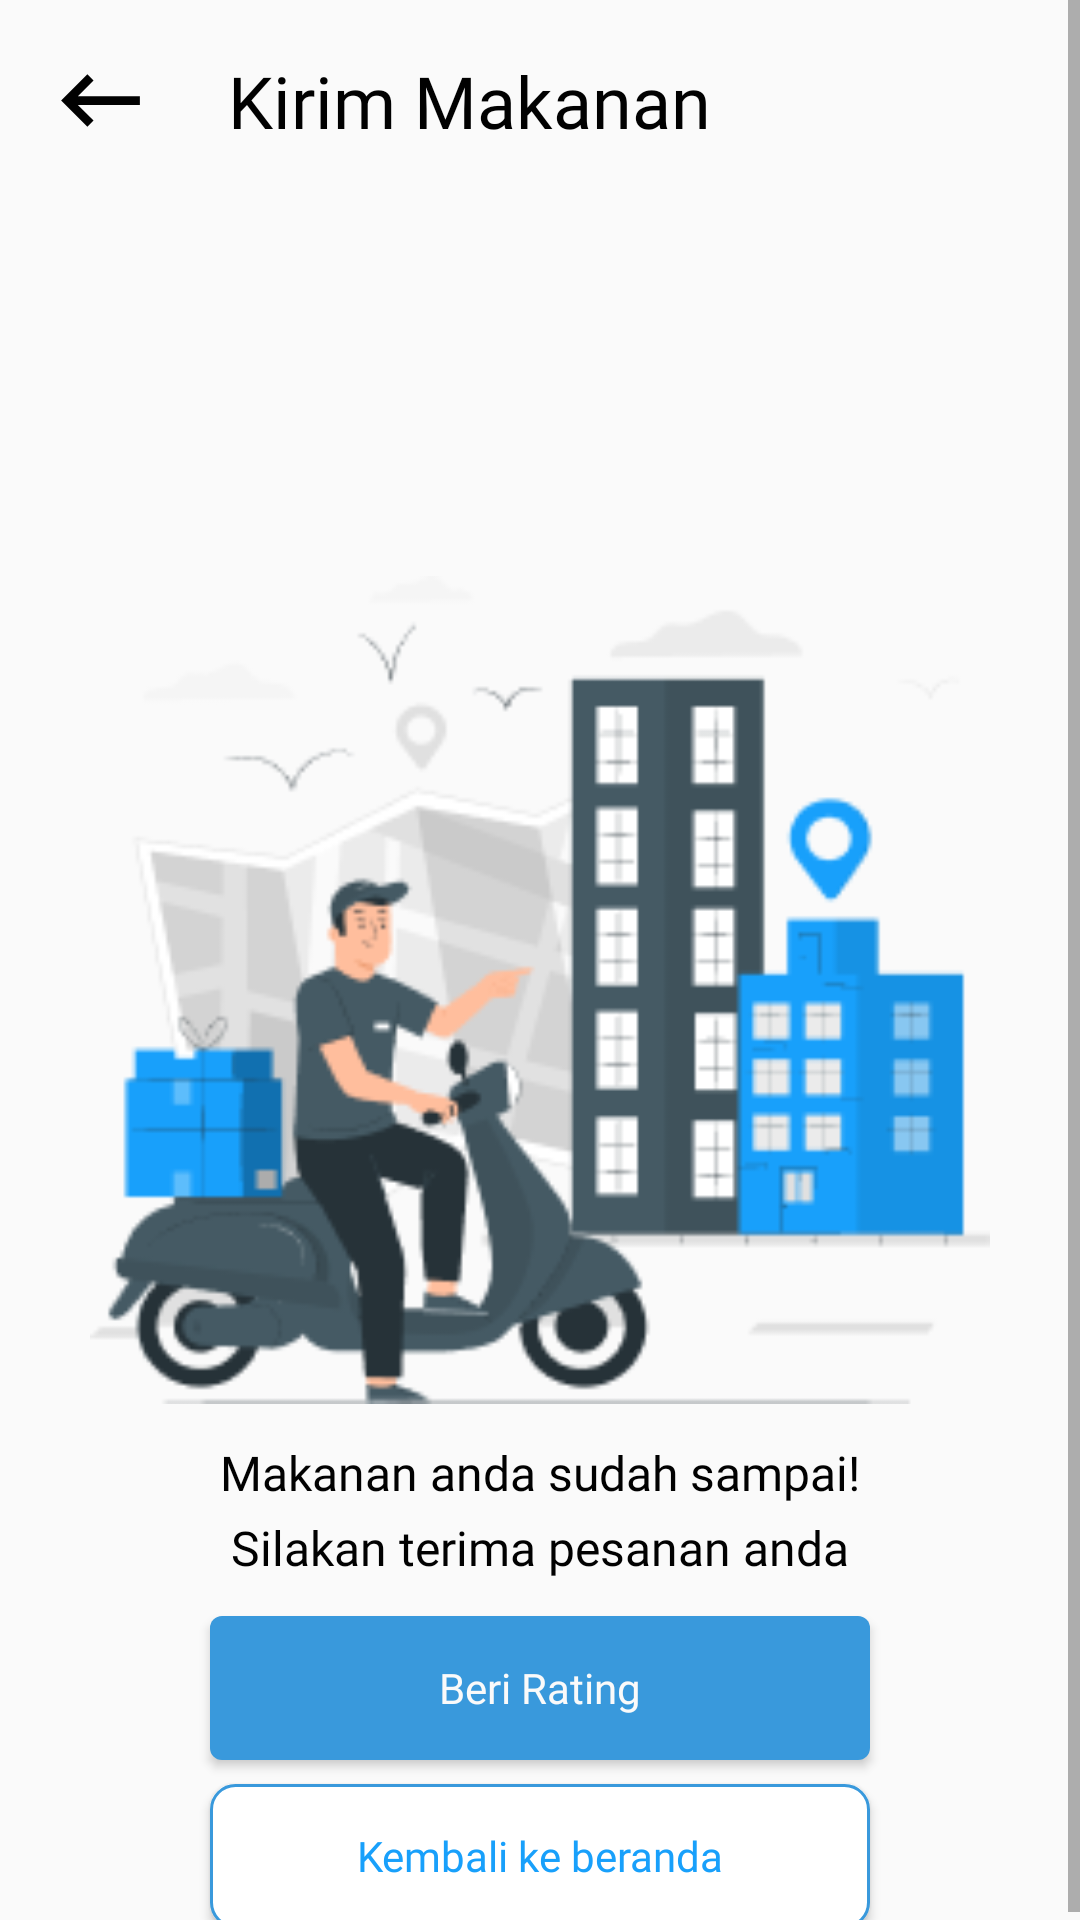

Icon bounding boxes for this 1080px x 1920px phone screenshot, format (x1, y1, x2, y2):
keyboard backspace: (61, 74, 140, 127)
